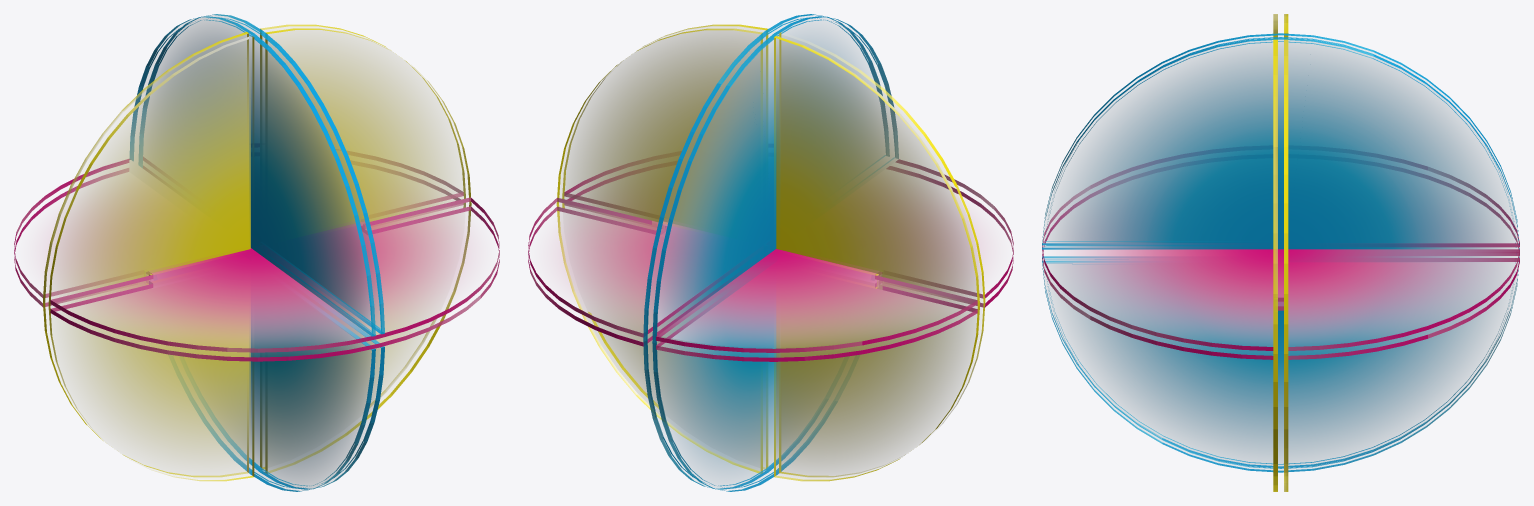
The model's file is SVD5_2.glb.
3 views of the same model, side by side, from view 1: azimuth 30°, elevation 25°; view 2: azimuth 150°, elevation 25°; view 3: azimuth 270°, elevation 25° (orthographic).
Parts seen in each view (by area): view 1: INV24, INV23, INV12, INV11, INV31, INV22, INV32, INV21; view 2: INV23, INV12, INV24, INV11, INV31, INV21, INV32, INV22; view 3: INV11, INV12, INV31, INV32, INV22, INV21.
Boxes of the visible parts, x1,y1,x2,y2 form: INV24: (48, 36, 254, 481); INV23: (43, 32, 248, 477); INV12: (130, 16, 375, 491); INV11: (138, 14, 384, 489); INV31: (14, 156, 499, 352); INV22: (265, 28, 471, 473); INV32: (14, 166, 499, 361); INV21: (260, 24, 465, 469); INV23: (774, 36, 979, 481); INV12: (652, 16, 898, 491); INV24: (779, 32, 985, 477); INV11: (643, 14, 889, 489); INV31: (528, 157, 1013, 352); INV21: (556, 28, 762, 473); INV32: (528, 166, 1013, 361); INV22: (562, 24, 768, 469); INV11: (1042, 37, 1519, 472); INV12: (1042, 33, 1519, 468); INV31: (1042, 154, 1519, 350); INV32: (1042, 169, 1519, 359); INV22: (1273, 39, 1277, 491); INV21: (1284, 39, 1288, 491).
Bounding box in the file's own units: 0.3204 × 0.32 × 0.3201.
6 materials, 6 textured.
